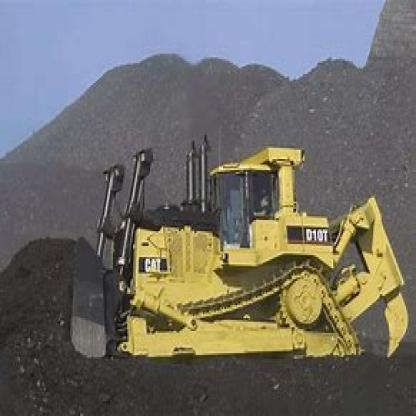bull_dozer/loader/grader: (65, 113, 414, 390)
